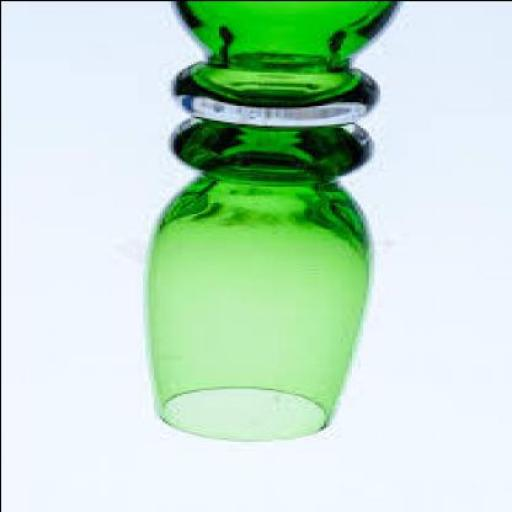glass: (144, 2, 396, 442)
